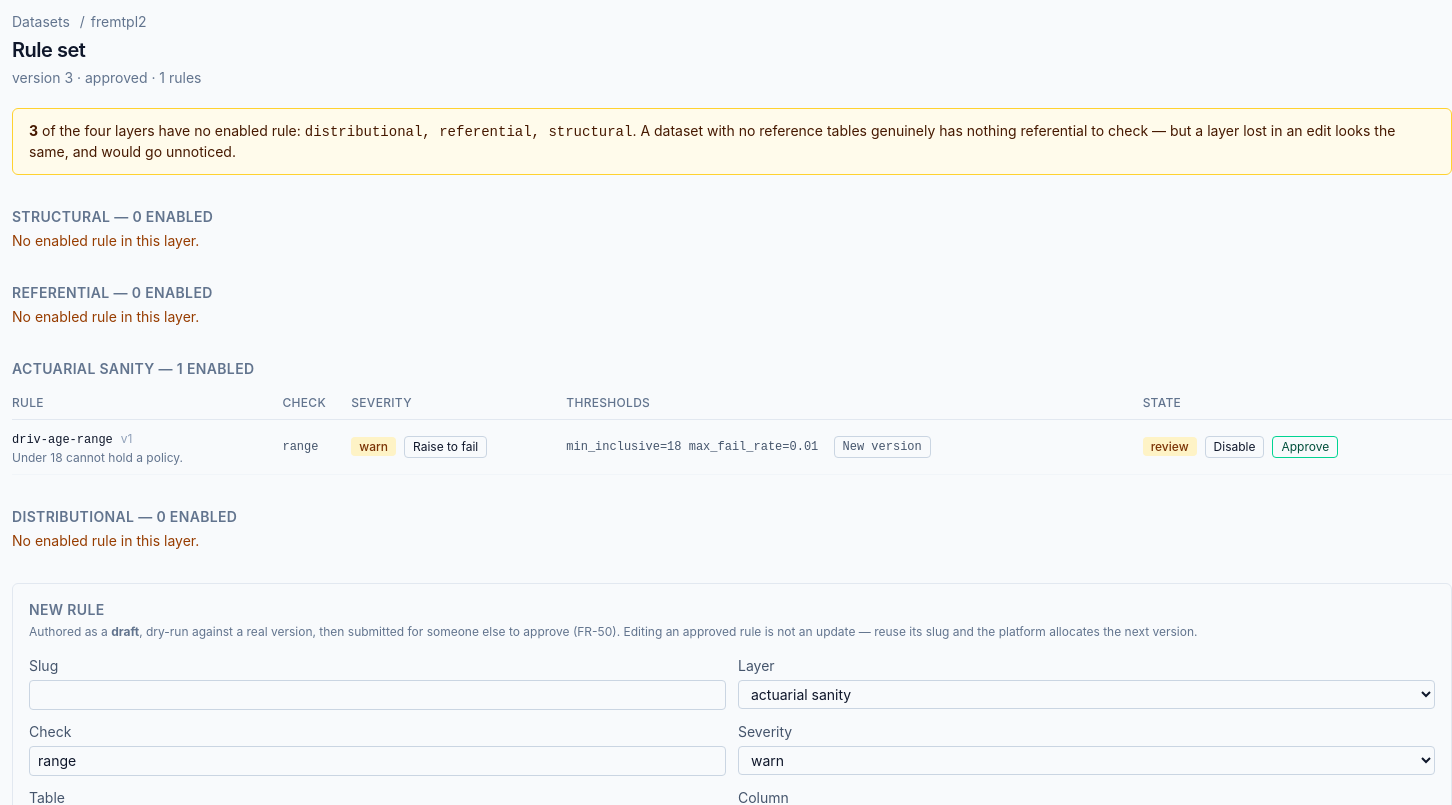
Test: the rule set view › reads a refusal to self-approve as separation of duties, not missing access
The width and height of the screenshot is (1452, 805).
What coordinates should you click on to do the following:
click the button "Approve"
I would click on:
 (1305, 447)
Its box is left=1272, top=436, right=1338, bottom=458.
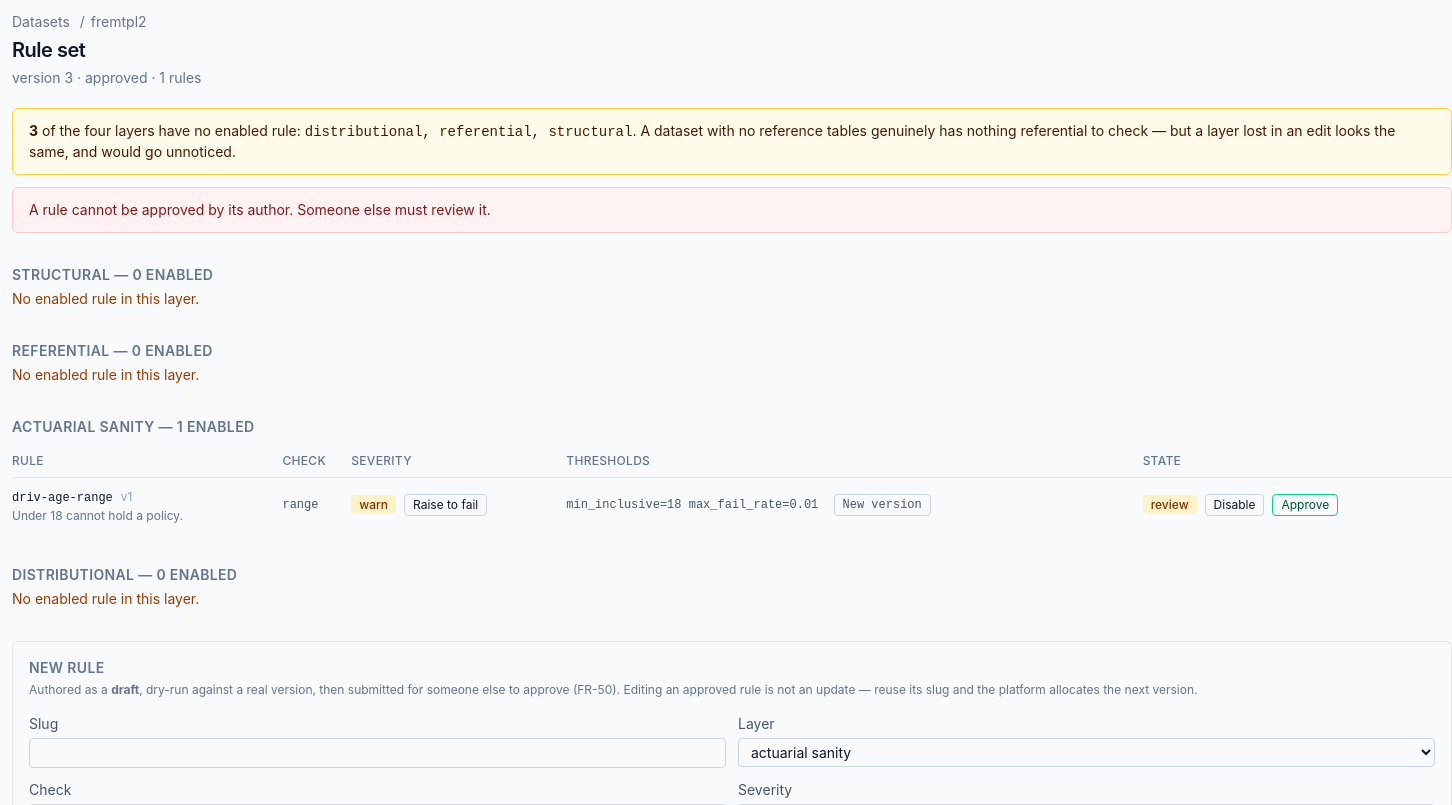
Result: the message shows "Someone else must review it" at left=29, top=201, right=491, bottom=218
